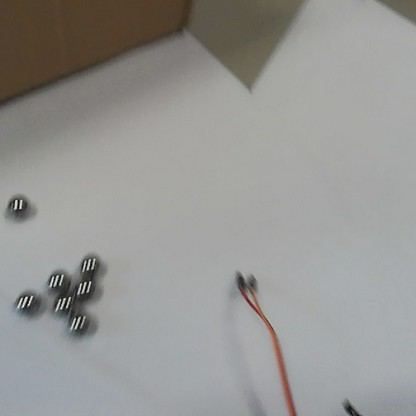ironball: (9, 286, 44, 319), (1, 189, 34, 219), (75, 248, 106, 279), (65, 308, 93, 338), (44, 268, 73, 296), (48, 293, 78, 318), (71, 276, 99, 301)
